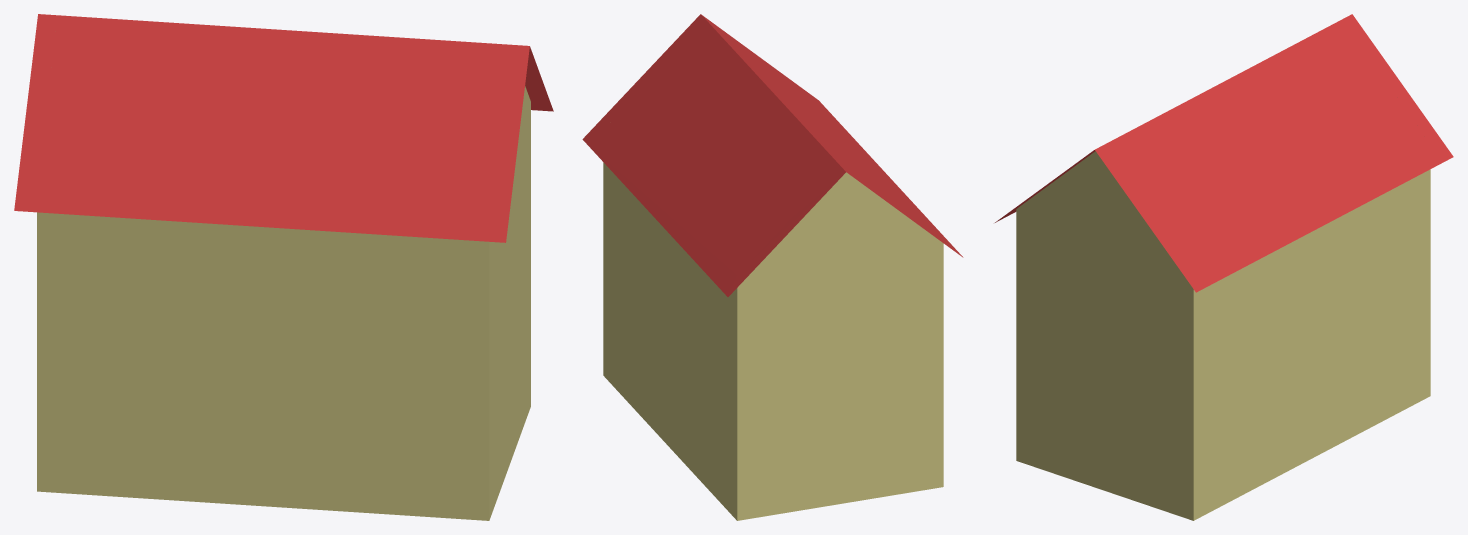
3 views of the same model, side by side, from view 1: azimuth 30°, elevation 25°; view 2: azimuth 150°, elevation 25°; view 3: azimuth 270°, elevation 25° (orthographic). The views are drawn at different scales.
Parts seen in each view (by area): view 1: group_5, group_3, group_4; view 2: group_5, group_3, group_4; view 3: group_5, group_3, group_4.
Boxes of the visible parts, x1,y1,x2,y2 form: group_5: (37, 86, 530, 520); group_3: (14, 15, 553, 242); group_4: (14, 14, 529, 210); group_5: (603, 162, 943, 520); group_3: (603, 14, 962, 278); group_4: (582, 14, 963, 296); group_5: (1016, 151, 1430, 520); group_3: (1071, 14, 1430, 268); group_4: (995, 15, 1453, 292).
Bounding box in the file's own units: 21.98 × 20.92 × 17.37.
